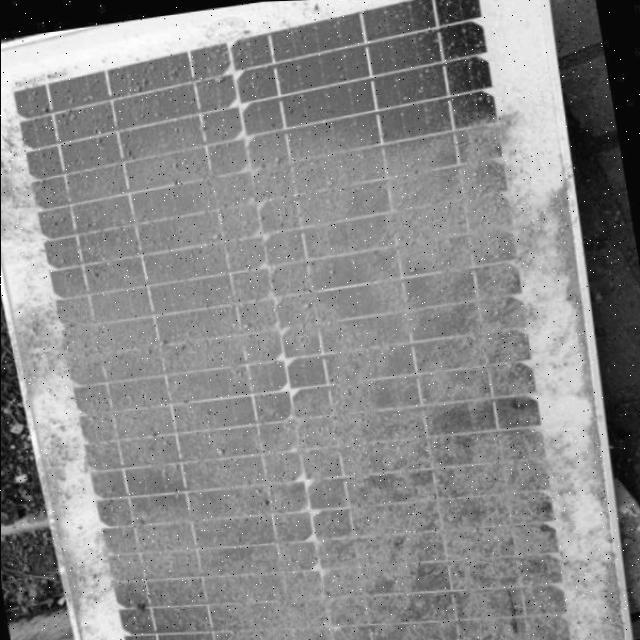Surface Contaminant: (0, 9, 613, 640)
